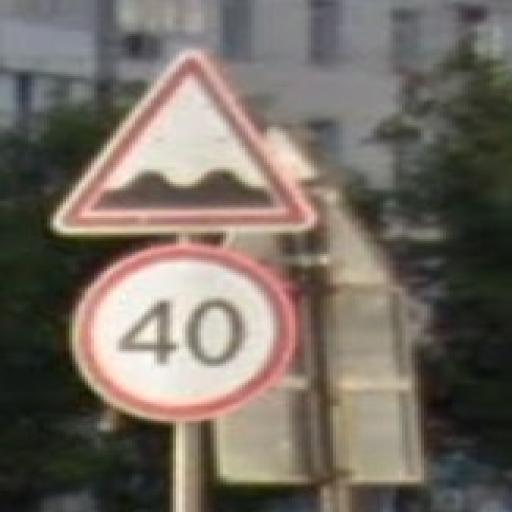traffic_sign: (52, 50, 322, 242), (73, 249, 303, 424)
